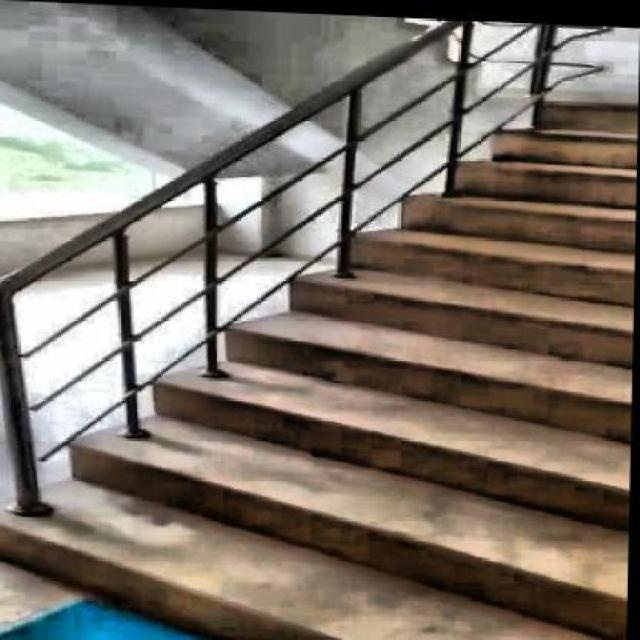stair: (36, 66, 638, 639)
